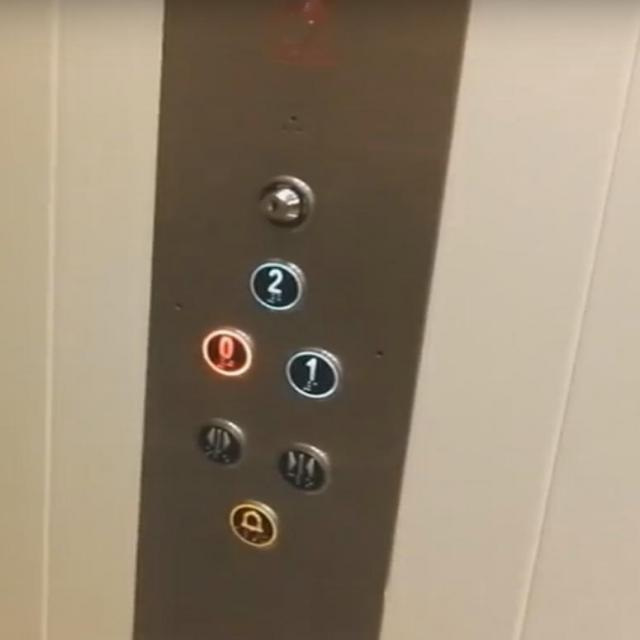0: (198, 324, 255, 378)
1: (282, 346, 344, 401)
2: (245, 258, 308, 313)
alarm: (223, 498, 282, 550)
close: (272, 438, 335, 496)
keyhole: (250, 172, 318, 233)
open: (192, 416, 248, 469)
